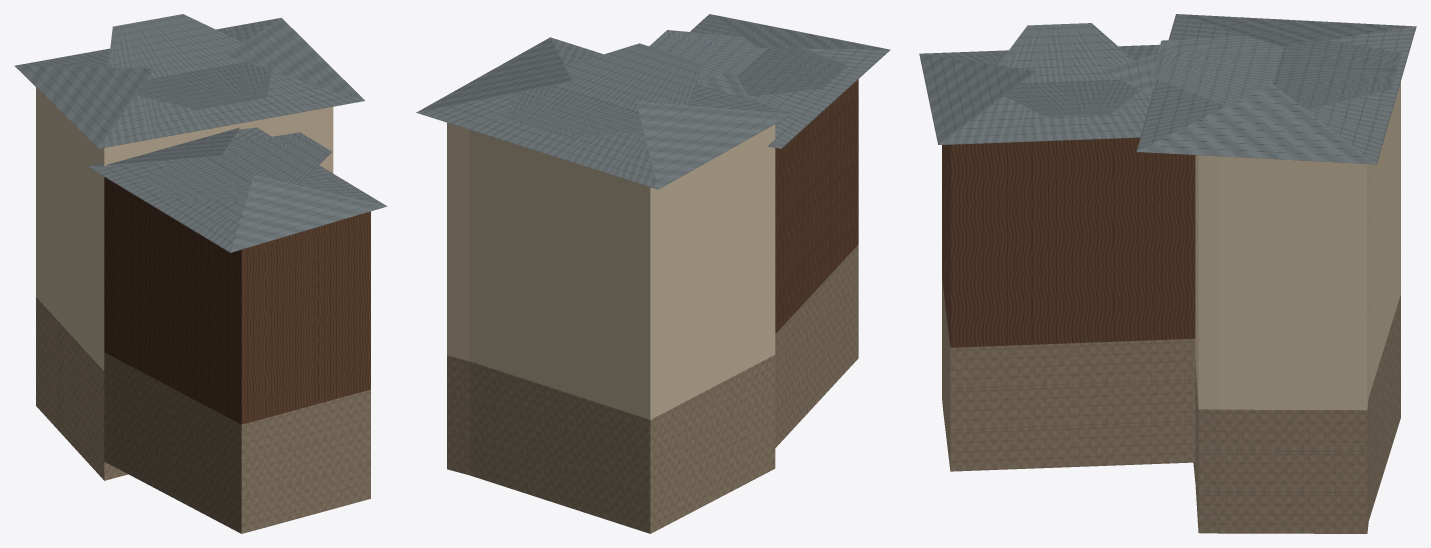
The model's file is bld_c4_6_499.gltf.
3 renders of one model, left to right at view 1: azimuth 30°, elevation 25°; view 2: azimuth 150°, elevation 25°; view 3: azimuth 270°, elevation 25°, orthographic. The views are drawn at different scales.
Visible parts, largest first — view 1: bld_c4_6_499; view 2: bld_c4_6_499; view 3: bld_c4_6_499.
Part boxes in pixels (<box>): bld_c4_6_499: <box>14,14,387,533</box>; bld_c4_6_499: <box>416,14,890,533</box>; bld_c4_6_499: <box>919,14,1416,533</box>.
Size of the model in its own units: 13.29 by 16.8 by 18.57.
4 materials, 4 textured.
